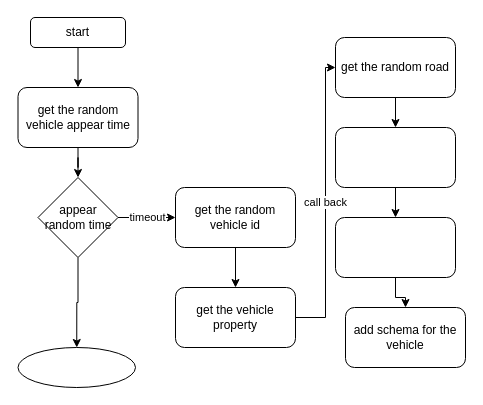
Image size: 483x405. Some labels were removed from this diagram. Each missing label, with the centre of its shape:
"construct the vehicle creation object" goes at [395,157].
"create the vehicle agent" goes at [395,247].
"end" goes at [76,367].
